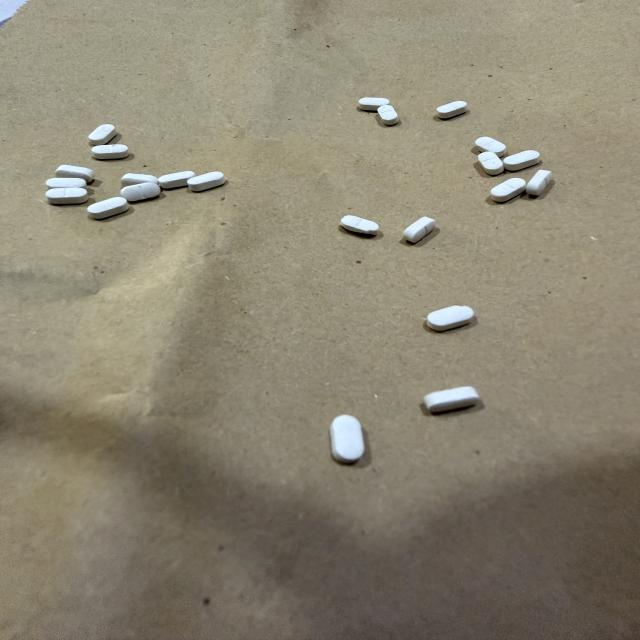pill: (330, 415, 365, 463), (424, 387, 480, 413), (427, 306, 474, 331), (88, 197, 129, 219), (403, 217, 435, 243), (491, 178, 525, 202), (120, 182, 160, 202), (187, 171, 225, 192), (341, 215, 379, 235), (503, 150, 539, 171), (46, 188, 88, 204), (158, 171, 195, 189), (526, 170, 552, 195), (56, 165, 94, 182), (476, 137, 506, 157), (478, 152, 503, 175), (92, 144, 129, 159), (89, 125, 116, 145), (437, 101, 467, 119), (121, 174, 158, 186), (358, 97, 389, 111), (46, 178, 86, 188), (378, 105, 398, 125)
